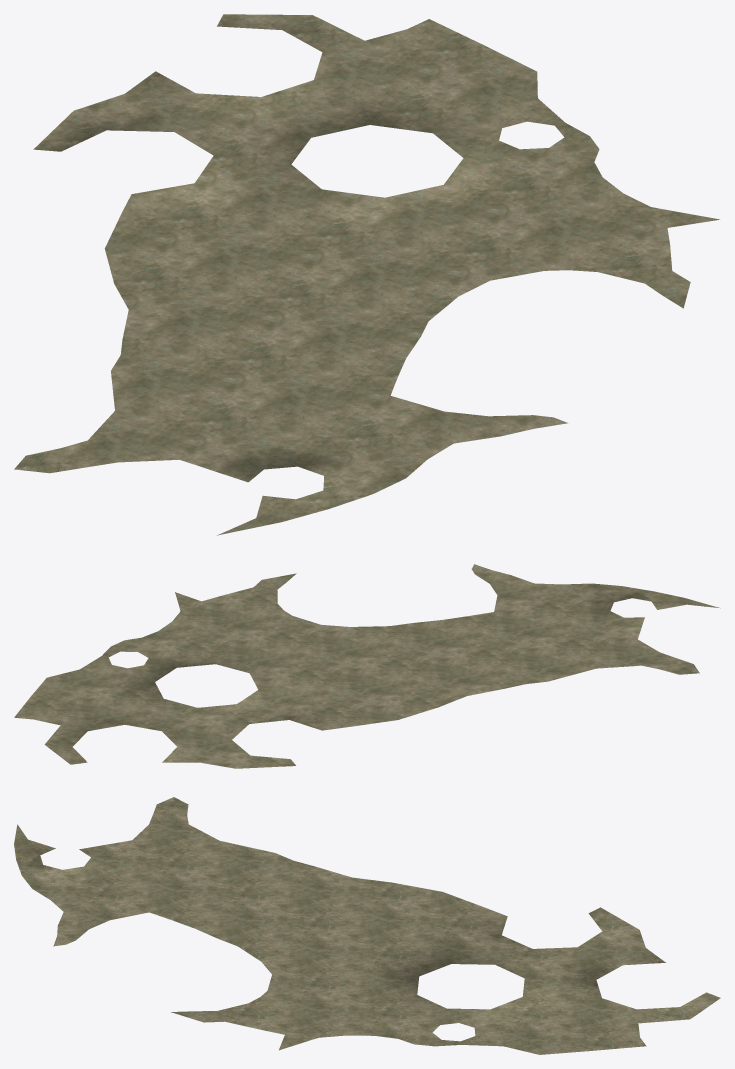
File: EKH_CAVERNS_PS_CA_LINE37.fbx
3 views of the same model, one above another, from view 1: azimuth 30°, elevation 25°; view 2: azimuth 150°, elevation 25°; view 3: azimuth 270°, elevation 25° (orthographic). The views are drawn at different scales.
Visible parts, largest first — view 1: EKH_CAVERNS_PS_CA_LINE37; view 2: EKH_CAVERNS_PS_CA_LINE37; view 3: EKH_CAVERNS_PS_CA_LINE37.
Part boxes in pixels (x1,y1,x2,y2): EKH_CAVERNS_PS_CA_LINE37: (14,14,719,535); EKH_CAVERNS_PS_CA_LINE37: (14,564,720,768); EKH_CAVERNS_PS_CA_LINE37: (14,797,720,1054).
Bounding box in the file's own units: 274505 × 0.1464 × 317932.
1 material, 1 textured.
